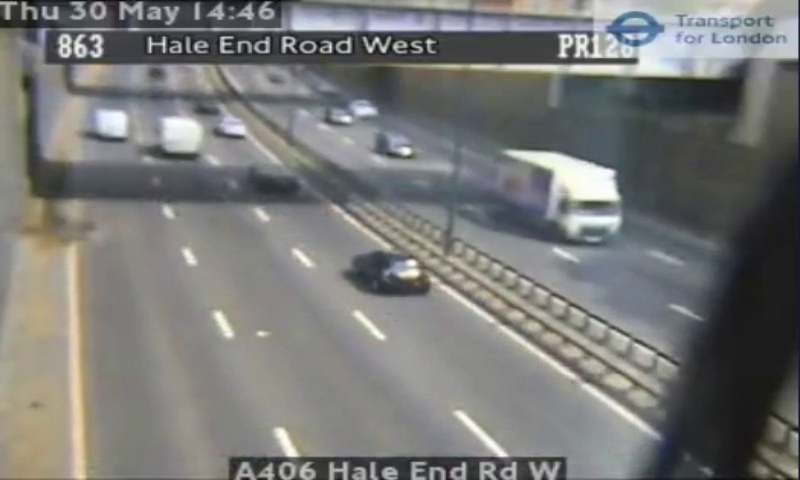car: (351, 251, 427, 291)
van: (160, 118, 201, 155), (93, 109, 126, 139)
